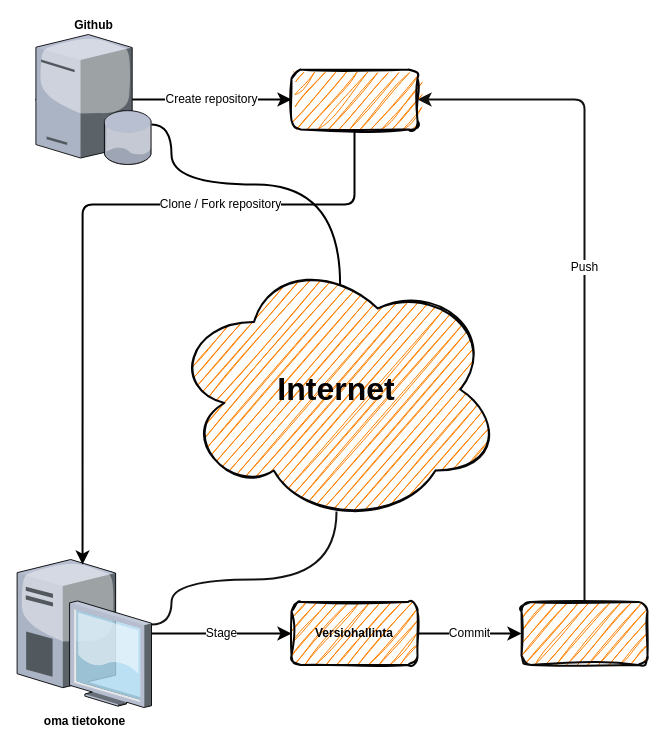
This 666x745 diagram has some shape labels left out. The shapes that lost their labels are listed below. From the top down, each one's centre as x and y in pixels, then its label:
At (x=354, y=99): "Code-sivu".
At (x=584, y=633): "Uusiversio".
